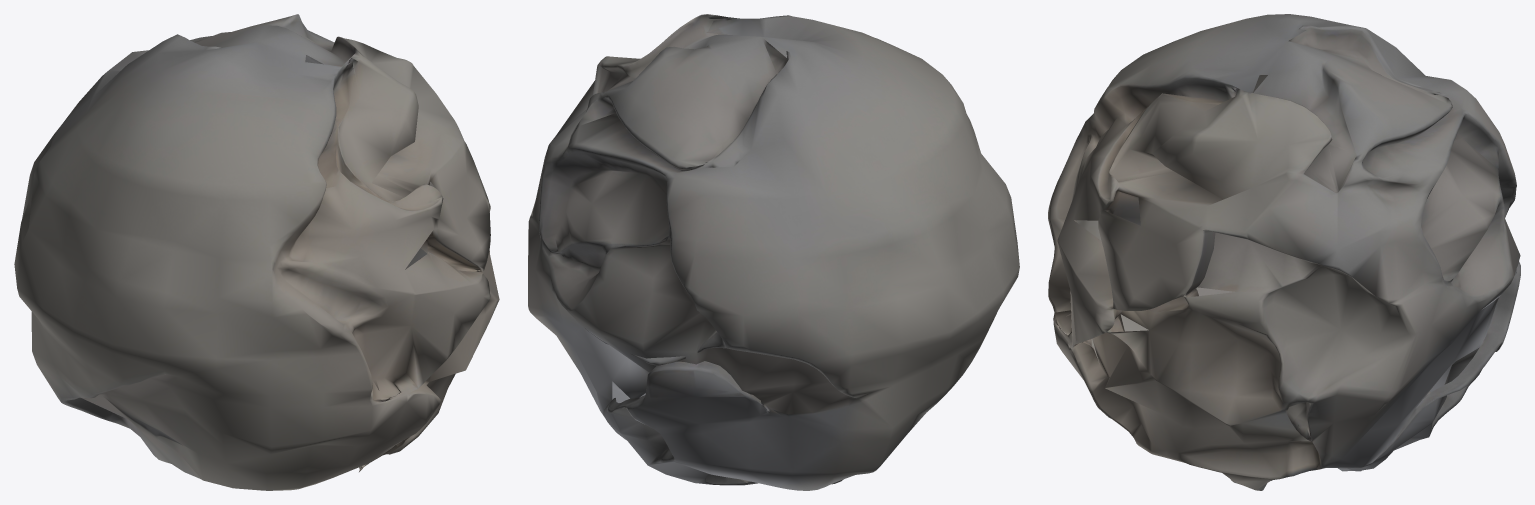
The model's file is foil.glb.
3 views of the same model, side by side, from view 1: azimuth 30°, elevation 25°; view 2: azimuth 150°, elevation 25°; view 3: azimuth 270°, elevation 25° (orthographic). The views are drawn at different scales.
Visible parts, largest first — view 1: tripo_node_377b10e9-d5ad-45ad-b6ff-ae597e1ccede; view 2: tripo_node_377b10e9-d5ad-45ad-b6ff-ae597e1ccede; view 3: tripo_node_377b10e9-d5ad-45ad-b6ff-ae597e1ccede.
Boxes of the visible parts, <box> form: tripo_node_377b10e9-d5ad-45ad-b6ff-ae597e1ccede: <box>14,14,499,490</box>; tripo_node_377b10e9-d5ad-45ad-b6ff-ae597e1ccede: <box>528,14,1019,490</box>; tripo_node_377b10e9-d5ad-45ad-b6ff-ae597e1ccede: <box>1048,14,1520,490</box>.
Size of the model in its own units: 0.9995 by 0.979 by 0.9946.
1 material, 1 textured.
